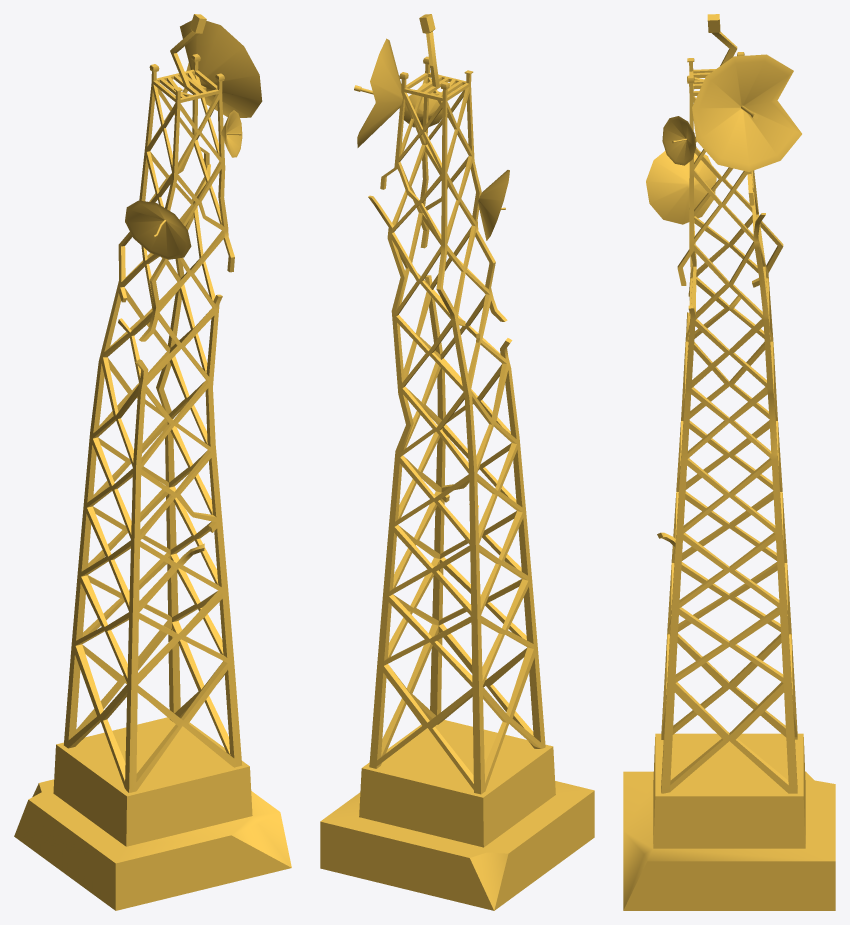
Rendered from Radiotower.fbx.
3 renders of one model, left to right at view 1: azimuth 30°, elevation 25°; view 2: azimuth 150°, elevation 25°; view 3: azimuth 270°, elevation 25°, orthographic. The views are drawn at different scales.
Visible parts, largest first — view 1: RadioTower; view 2: RadioTower; view 3: RadioTower.
Part boxes in pixels (x1,y1,x2,y2): RadioTower: (14,14,291,910); RadioTower: (320,14,594,910); RadioTower: (623,14,835,910).
Size of the model in its own units: 9.61 by 42.12 by 9.32.
